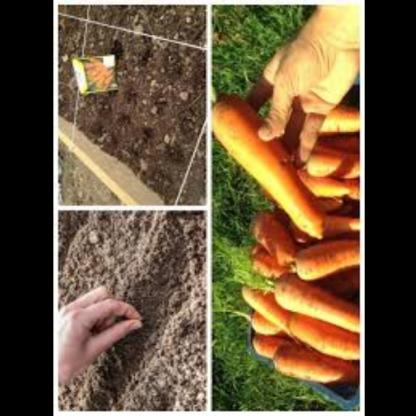carrot: (232, 209, 363, 399), (206, 94, 321, 241), (292, 100, 363, 216)
